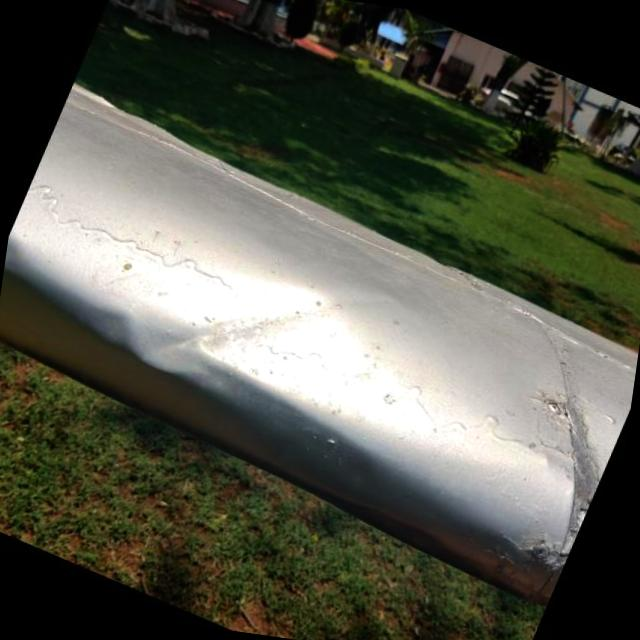dent: (54, 205, 347, 470)
